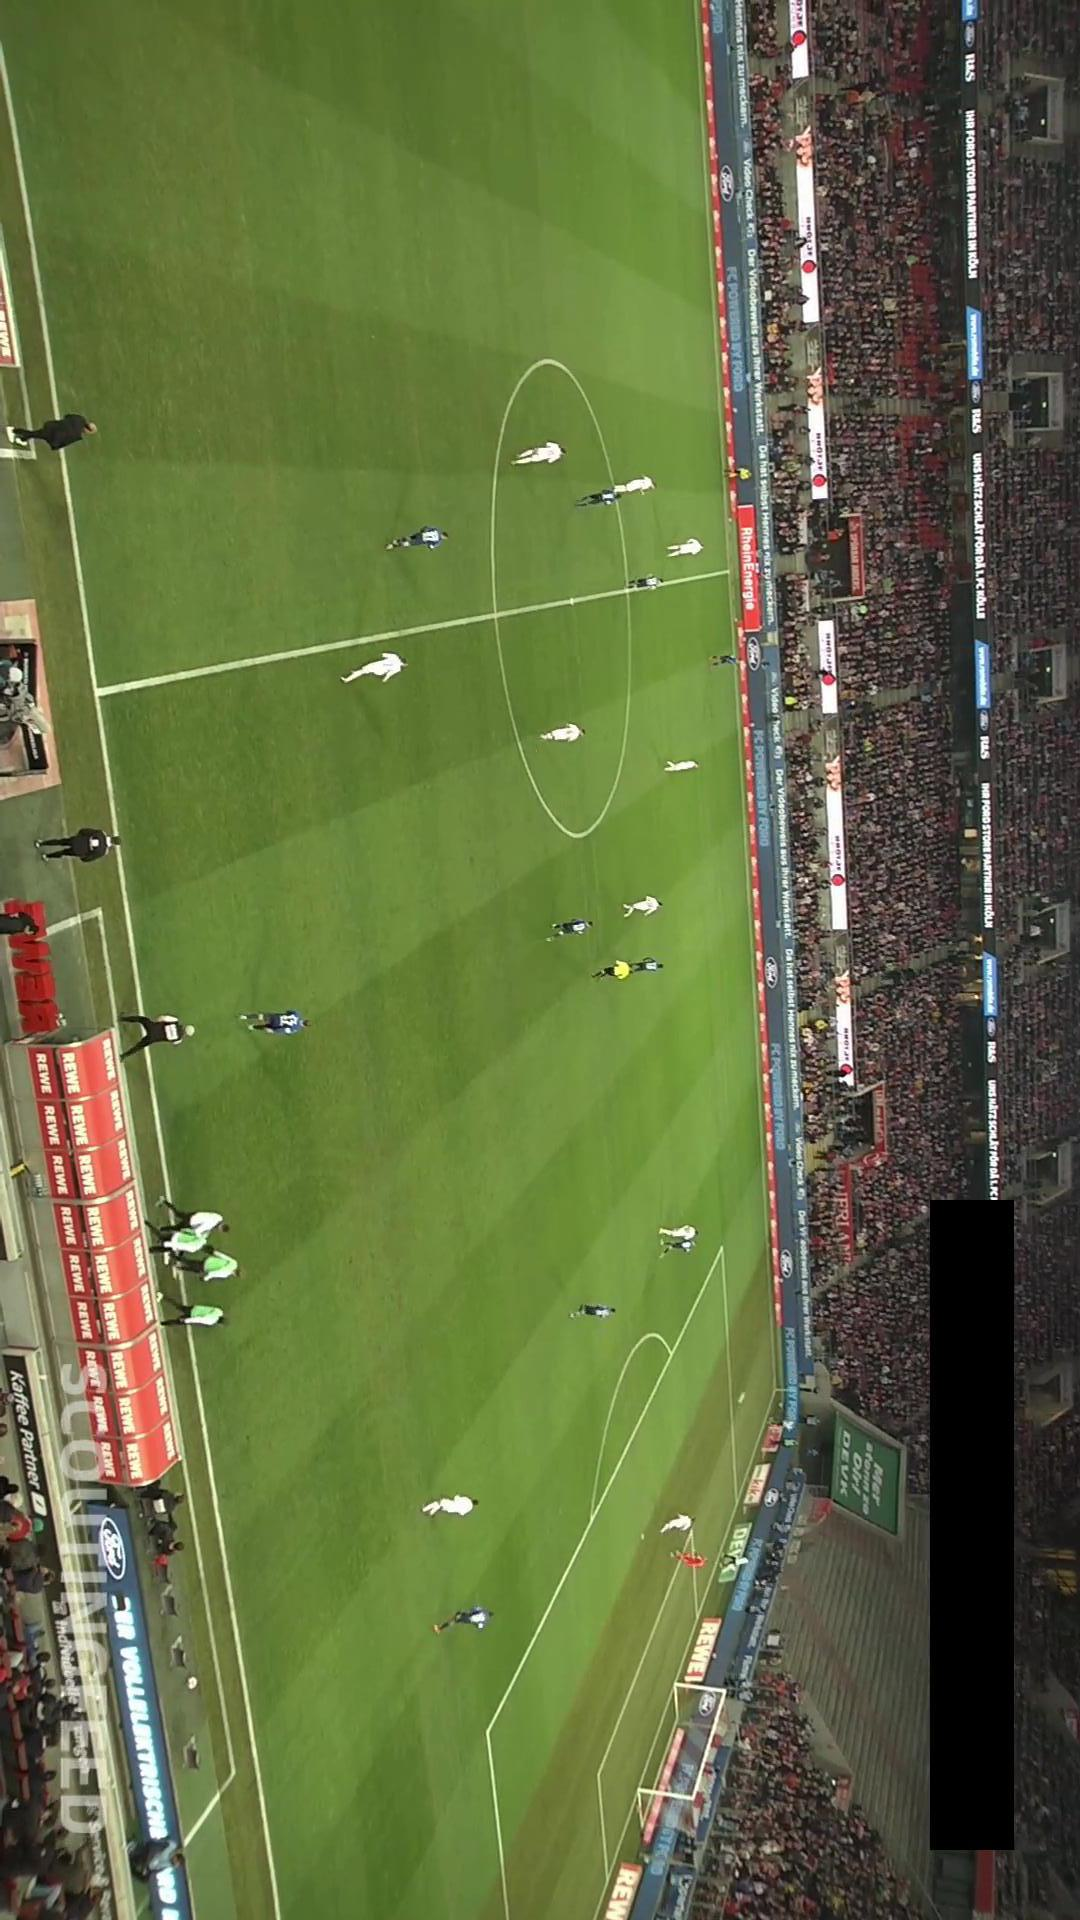ball: (734, 1390, 749, 1405)
goalkeeper: (671, 1550, 707, 1567)
player: (340, 652, 409, 684), (238, 1009, 314, 1036), (433, 1606, 495, 1634), (386, 526, 450, 552), (512, 441, 569, 466), (421, 1494, 480, 1517), (548, 918, 595, 940), (539, 723, 587, 743), (574, 489, 624, 508), (622, 895, 663, 917), (613, 476, 658, 495), (568, 1303, 617, 1320), (666, 538, 705, 558), (660, 1514, 697, 1534), (659, 1239, 697, 1258), (627, 574, 666, 591), (659, 1225, 699, 1241), (629, 956, 665, 973), (709, 654, 744, 669), (664, 759, 700, 772)
referee: (591, 960, 637, 981), (721, 465, 756, 482)
